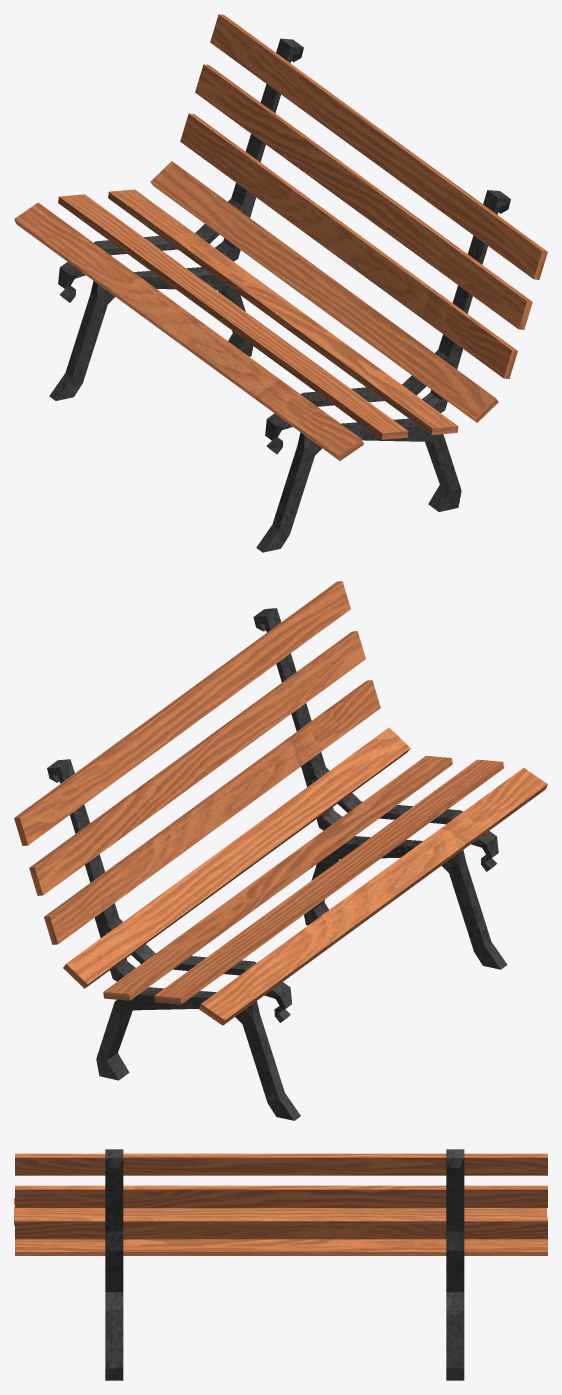
File: bench.glb
3 views of the same model, one above another, from view 1: azimuth 30°, elevation 25°; view 2: azimuth 150°, elevation 25°; view 3: azimuth 270°, elevation 25° (orthographic). The views are drawn at different scales.
Visible parts, largest first — view 1: Cube.034; view 2: Cube.034; view 3: Cube.034.
Boxes of the visible parts, x1=… form: Cube.034: x1=14, y1=14, x2=547, y2=552; Cube.034: x1=14, y1=581, x2=547, y2=1120; Cube.034: x1=14, y1=1149, x2=547, y2=1380.
Size of the model in its own units: 1.08 by 1.25 by 2.46.
Materials: 2 (2 with a texture image).
